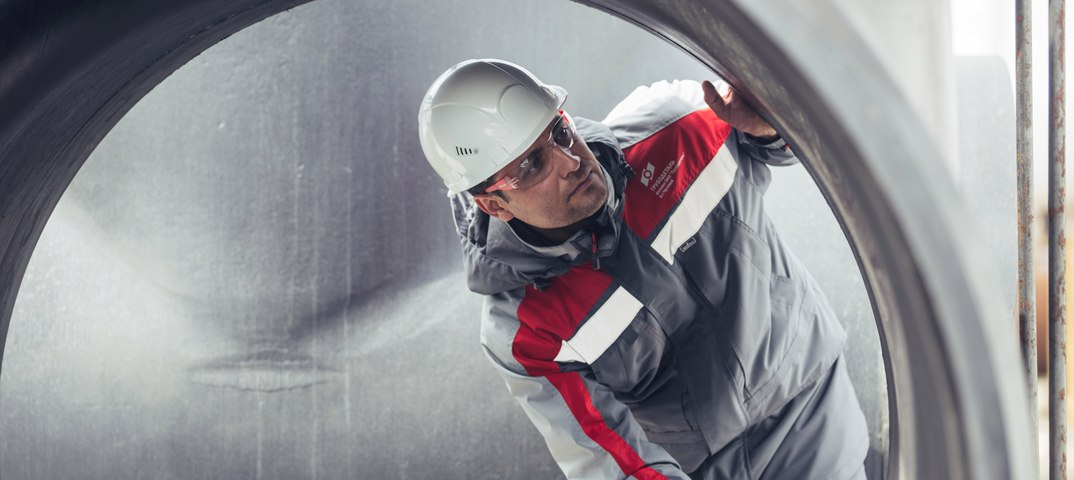person: (416, 58, 869, 480)
